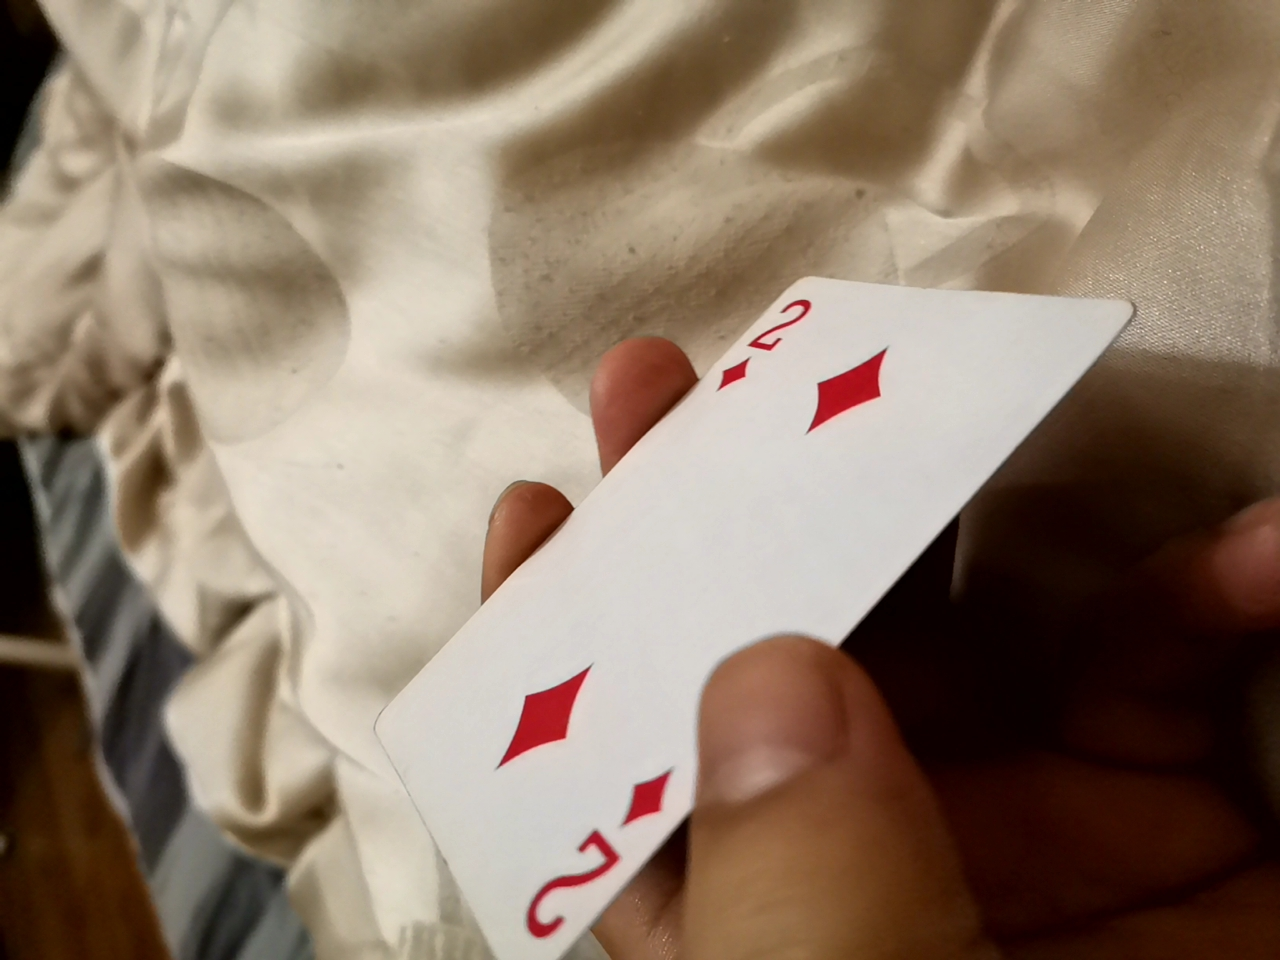fk 2: (332, 272, 1176, 905)
